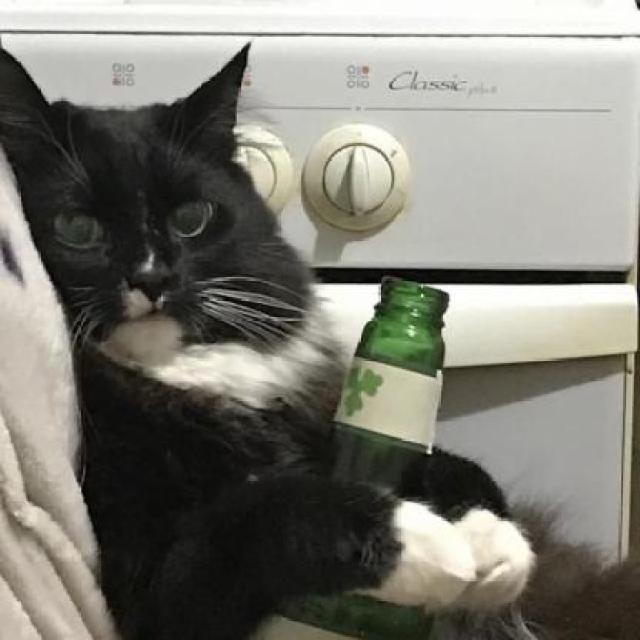cat: (1, 46, 344, 637)
